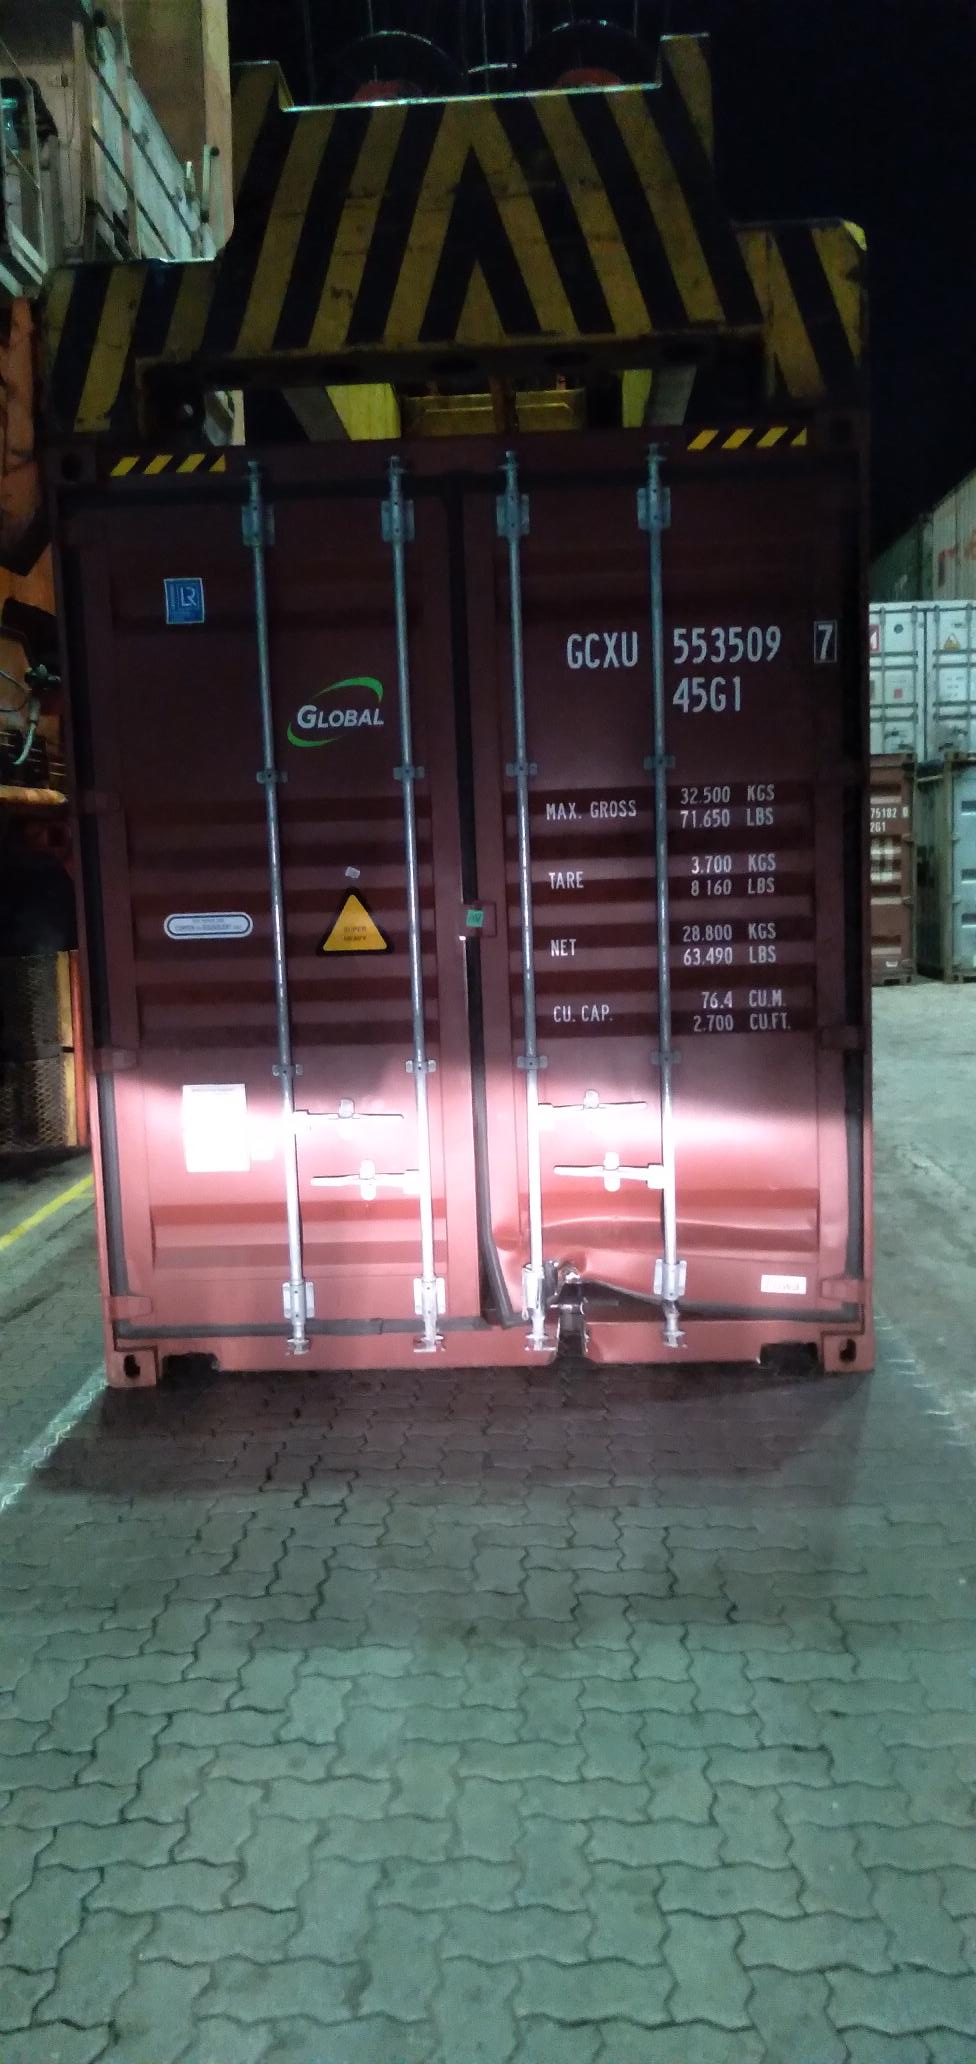bulged: (531, 1253, 705, 1326)
